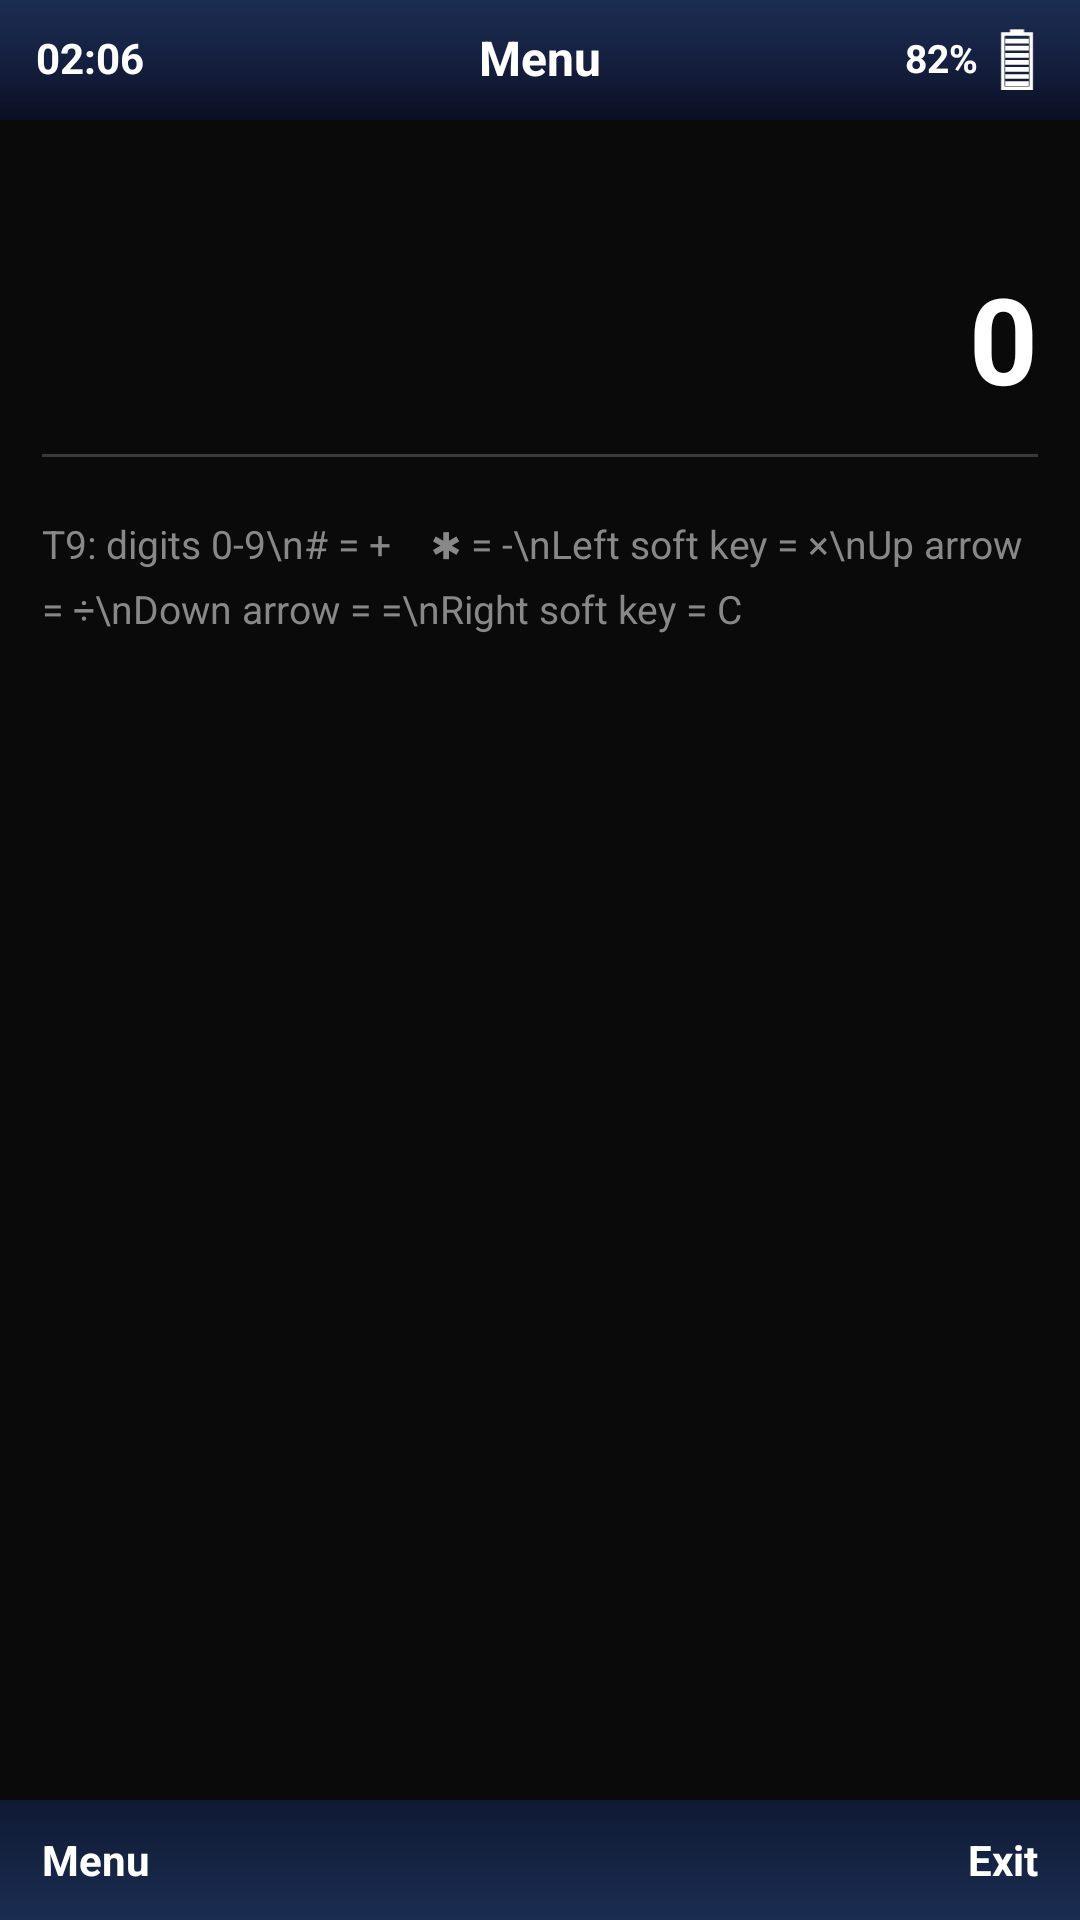

Icon click points for this 1080×1920 phone screenshot, format (x,y):
battery bars: (1017,58)
